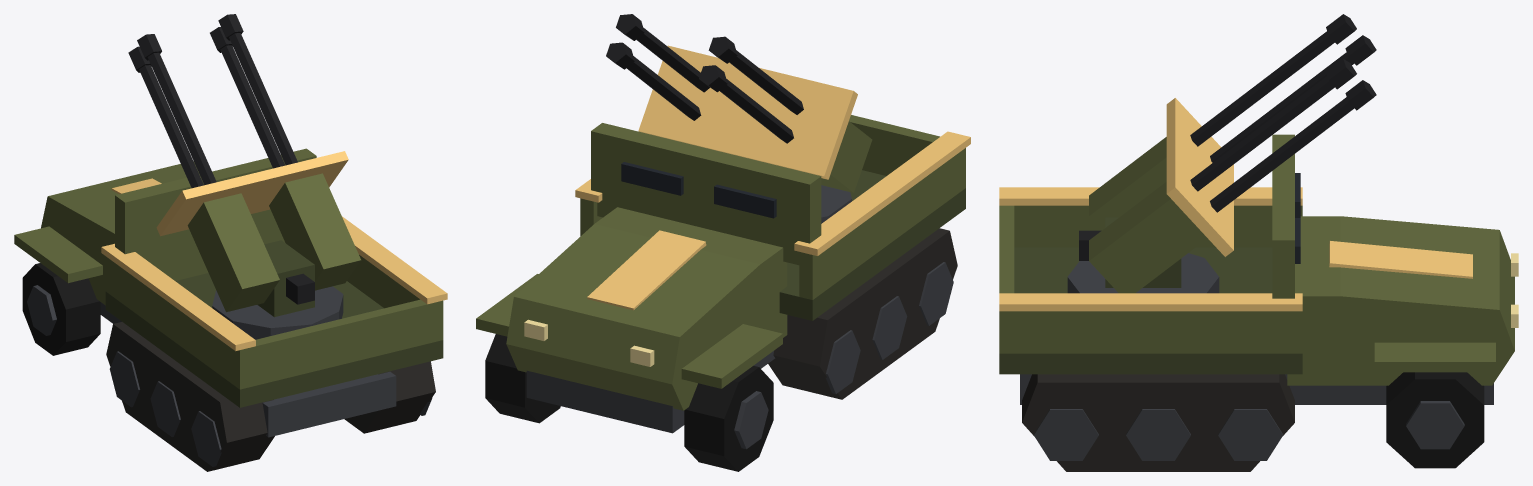
File: aa_halftrack.glb
3 renders of one model, left to right at view 1: azimuth 30°, elevation 25°; view 2: azimuth 150°, elevation 25°; view 3: azimuth 270°, elevation 25°, orthographic. The views are drawn at different scales.
Visible parts, largest first — view 1: aa_halftrack, Turret; view 2: aa_halftrack, Turret; view 3: aa_halftrack, Turret.
Part boxes in pixels (left/top/right/bottom): aa_halftrack: left=14, top=148, right=447, bottom=471; Turret: left=128, top=14, right=360, bottom=339; aa_halftrack: left=476, top=115, right=970, bottom=471; Turret: left=606, top=14, right=872, bottom=223; aa_halftrack: left=999, top=134, right=1518, bottom=471; Turret: left=1067, top=14, right=1376, bottom=293.
Bounding box in the file's own units: 0.75 × 1.1 × 1.37.
